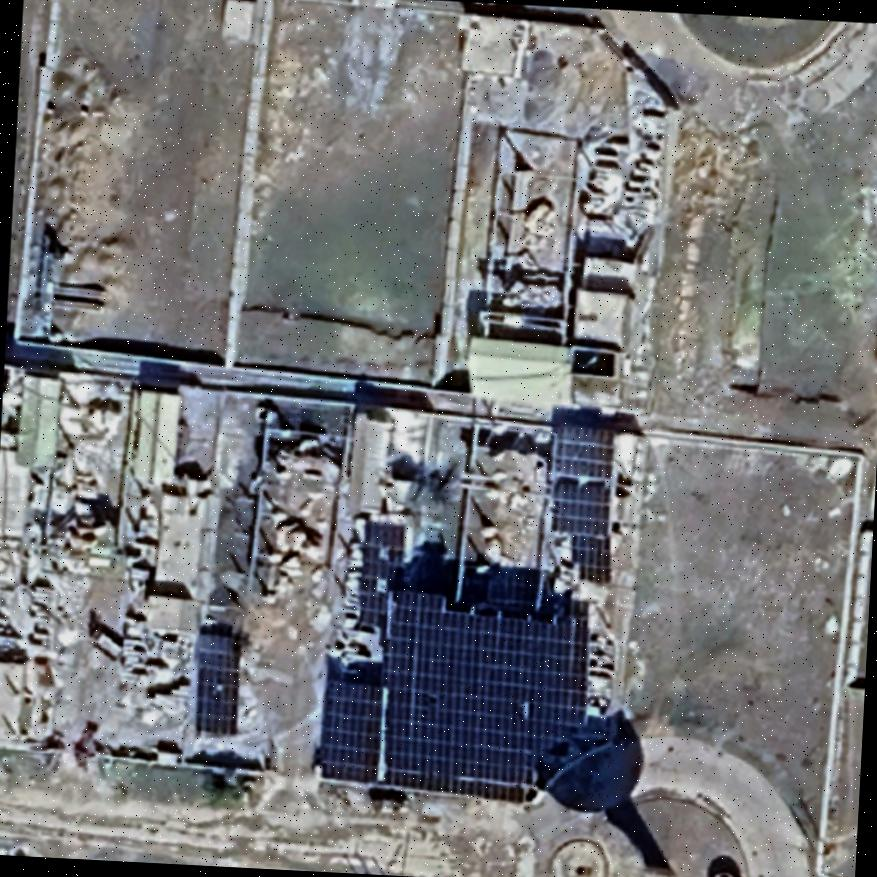Solarpanel: (371, 582, 596, 808), (539, 418, 623, 588), (312, 669, 387, 788), (350, 511, 410, 635), (188, 624, 246, 740)
